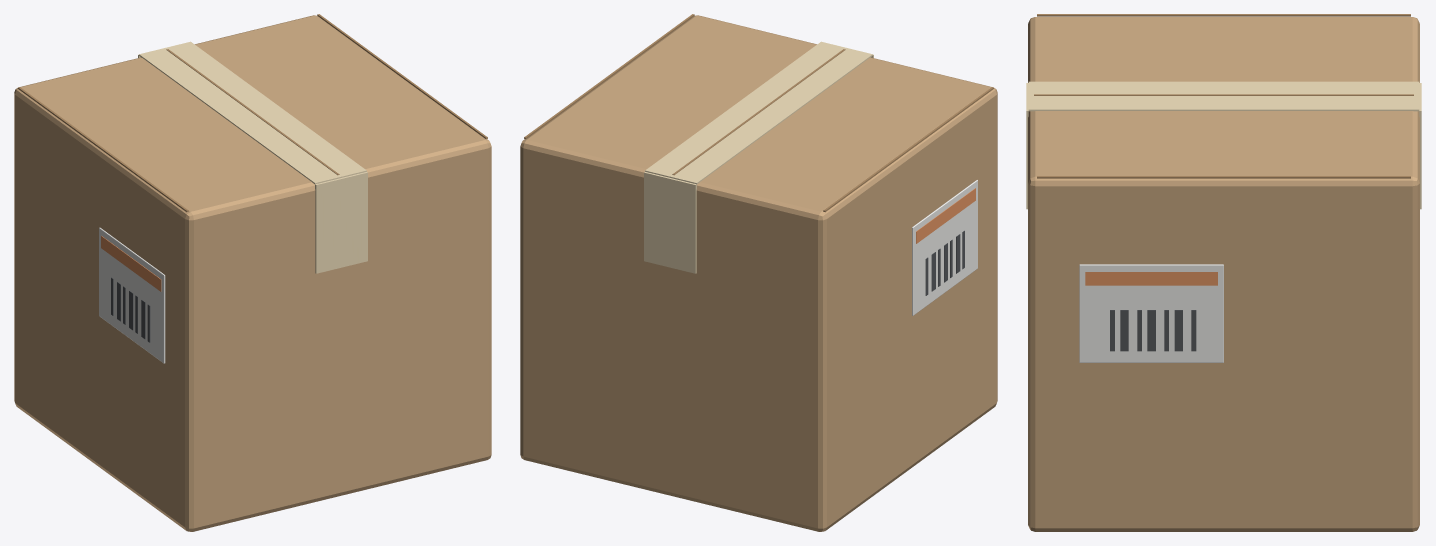
3 views of the same model, side by side, from view 1: azimuth 30°, elevation 25°; view 2: azimuth 150°, elevation 25°; view 3: azimuth 270°, elevation 25° (orthographic). The views are drawn at different scales.
Parts seen in each view (by area): view 1: CardboardBody, TopSeam, TapeEnd_0.326, ShippingLabel_-1, LabelAccent_-1, CartonFold_-0.318, CartonFold_0.318; view 2: CardboardBody, TopSeam, TapeEnd_-0.326, ShippingLabel_-1, LabelAccent_-1, CartonFold_-0.318, CartonFold_0.318; view 3: CardboardBody, TopSeam, ShippingLabel_1, LabelAccent_1, CartonFold_-0.318, CartonFold_0.318, FlapCenterLine.
Boxes of the visible parts, x1=… form: CardboardBody: x1=14, y1=15, x2=491, y2=531; TopSeam: x1=139, y1=41, x2=366, y2=184; TapeEnd_0.326: x1=315, y1=172, x2=367, y2=273; ShippingLabel_-1: x1=99, y1=227, x2=165, y2=363; LabelAccent_-1: x1=101, y1=236, x2=161, y2=291; CartonFold_-0.318: x1=18, y1=87, x2=188, y2=212; CartonFold_0.318: x1=317, y1=14, x2=487, y2=138; CardboardBody: x1=520, y1=15, x2=997, y2=531; TopSeam: x1=645, y1=41, x2=872, y2=184; TapeEnd_-0.326: x1=644, y1=172, x2=696, y2=273; ShippingLabel_-1: x1=912, y1=180, x2=977, y2=315; LabelAccent_-1: x1=916, y1=188, x2=975, y2=243; CartonFold_-0.318: x1=823, y1=87, x2=993, y2=212; CartonFold_0.318: x1=524, y1=14, x2=694, y2=138; CardboardBody: x1=1028, y1=17, x2=1419, y2=531; TopSeam: x1=1028, y1=81, x2=1419, y2=111; ShippingLabel_1: x1=1079, y1=264, x2=1223, y2=362; LabelAccent_1: x1=1085, y1=272, x2=1217, y2=285; CartonFold_-0.318: x1=1037, y1=14, x2=1410, y2=16; CartonFold_0.318: x1=1037, y1=176, x2=1410, y2=178; FlapCenterLine: x1=1034, y1=94, x2=1413, y2=95.
Size of the model in its own units: 0.657 by 0.6535 by 0.656.
